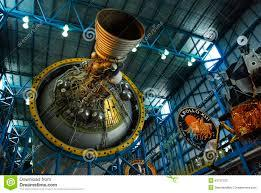body: (29, 56, 148, 175)
thruster: (92, 5, 149, 61)
